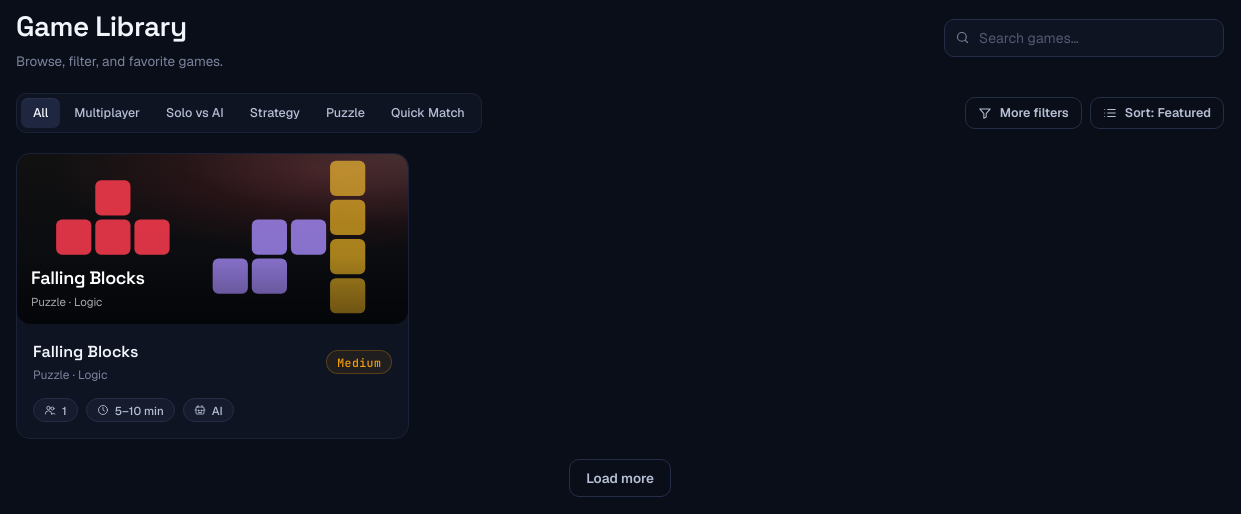
LibraryPage › load more appends games via the opaque keyset cursor ("after")
The width and height of the screenshot is (1241, 514).
Expected: the 1st text "Falling Blocks" is shown, [31, 266, 145, 289]
Click the button "Load more" at x=620, y=478, box [569, 459, 671, 497]
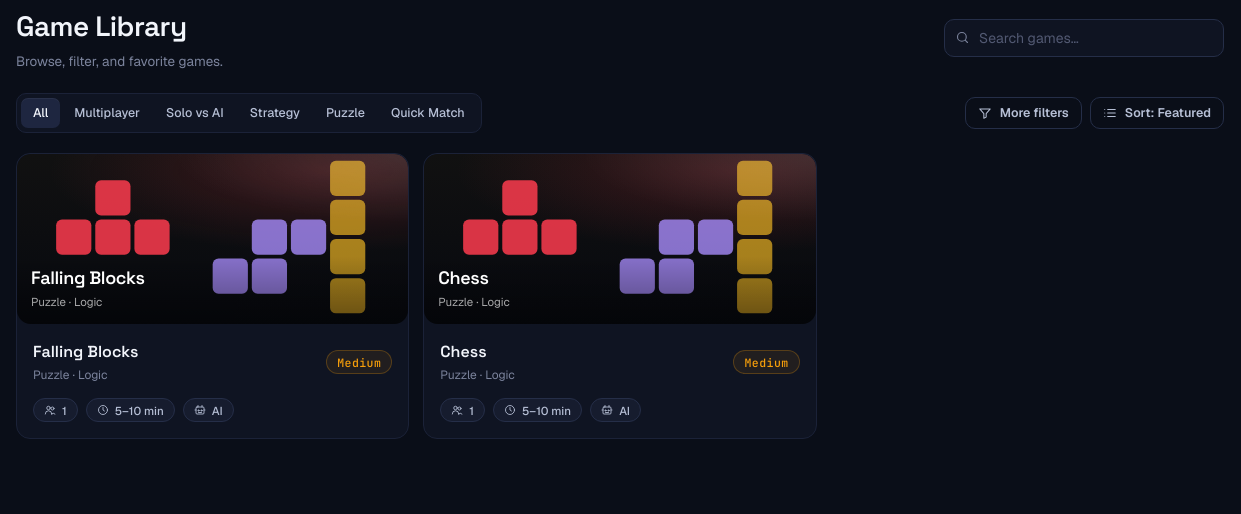
Expected: the 1st text "Falling Blocks" is shown, [31, 266, 145, 289]
Now the 1st text "Chess" is shown, box [438, 266, 488, 289]
